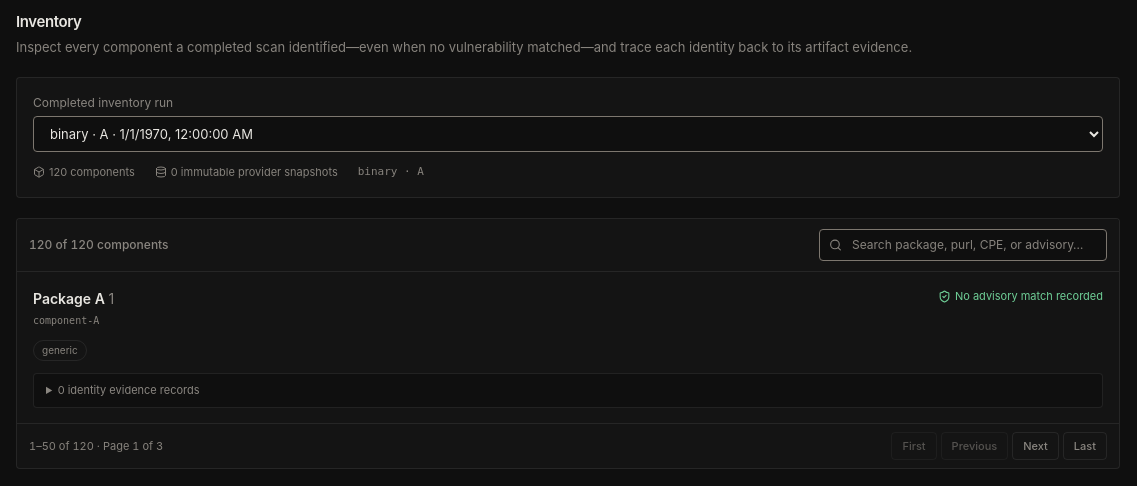
Test: a failed deep components page stays available for retry
Expected: the heading "Package A 1" is shown, top-left (33, 288), bottom-right (114, 308)
Click the button named "Last page of inventory components" at {"x": 1085, "y": 446}, box top-left (1063, 432), bottom-right (1107, 460)
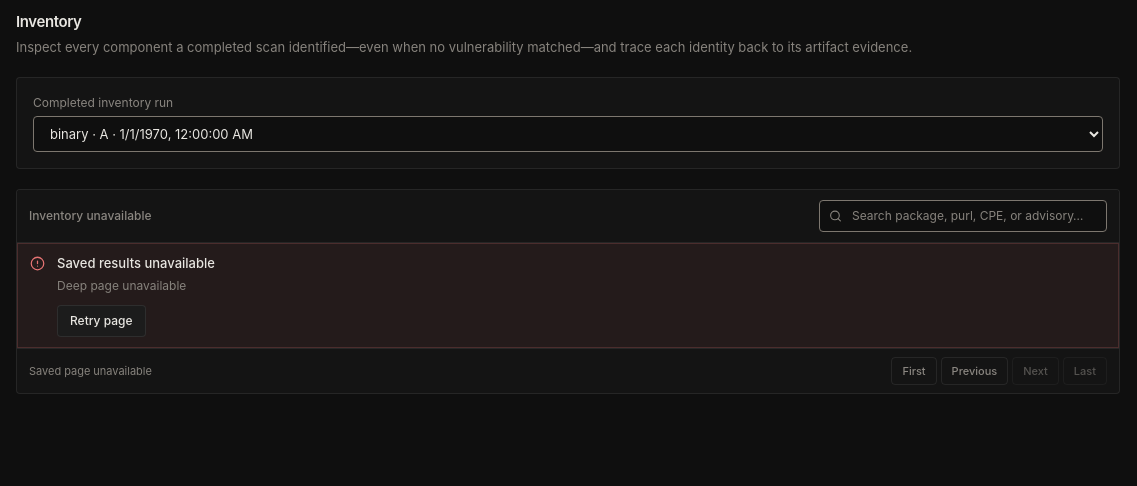
Expected: the text "Deep page unavailable" is shown, top-left (57, 278), bottom-right (186, 292)
Click the button "Retry page" at {"x": 101, "y": 321}, box top-left (57, 305), bottom-right (146, 337)
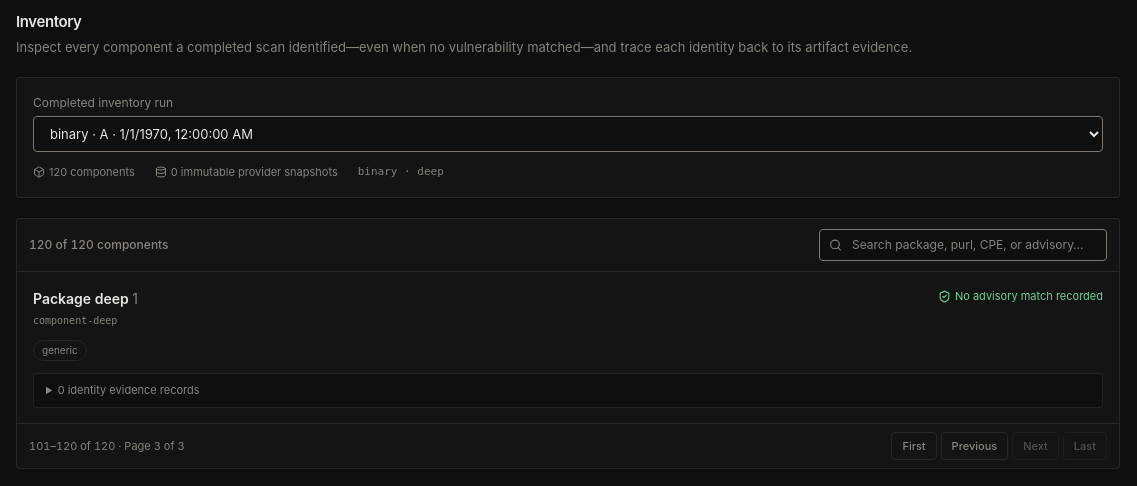
Expected: the heading "Package deep 1" is shown, top-left (33, 288), bottom-right (138, 308)
